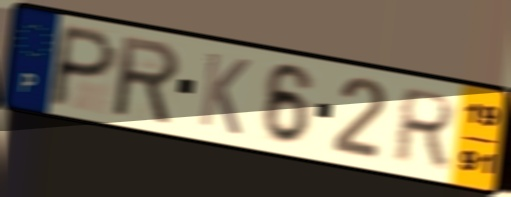2: (329, 76, 392, 164)
6: (256, 61, 320, 149)
K: (195, 48, 253, 139)
P: (45, 22, 121, 112)
R: (113, 32, 183, 129), (388, 85, 459, 170)
